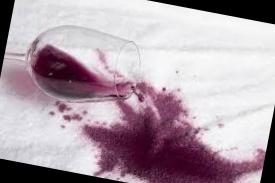wine: (83, 74, 198, 166), (93, 122, 252, 183)
